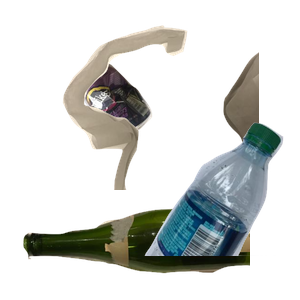glass: (21, 201, 261, 300)
metal: (77, 61, 222, 191)
plastic: (142, 120, 300, 300)
trash: (60, 23, 300, 203)
